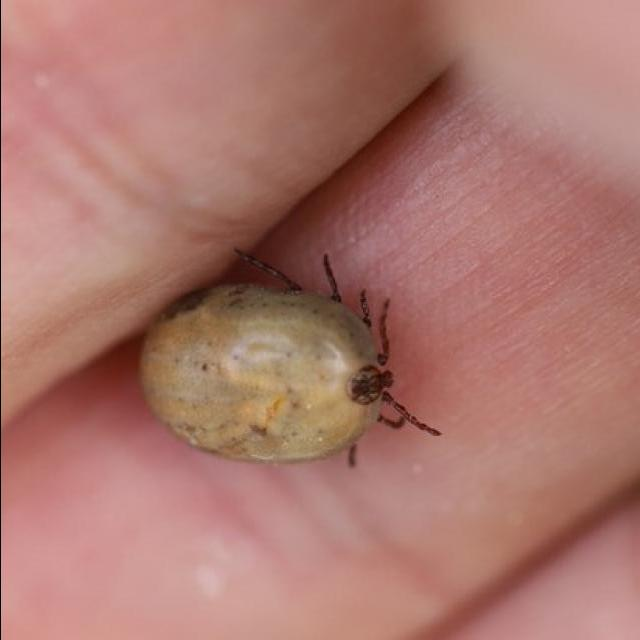Dermacentor Reticulatus-F-Fed: (138, 249, 438, 469)
